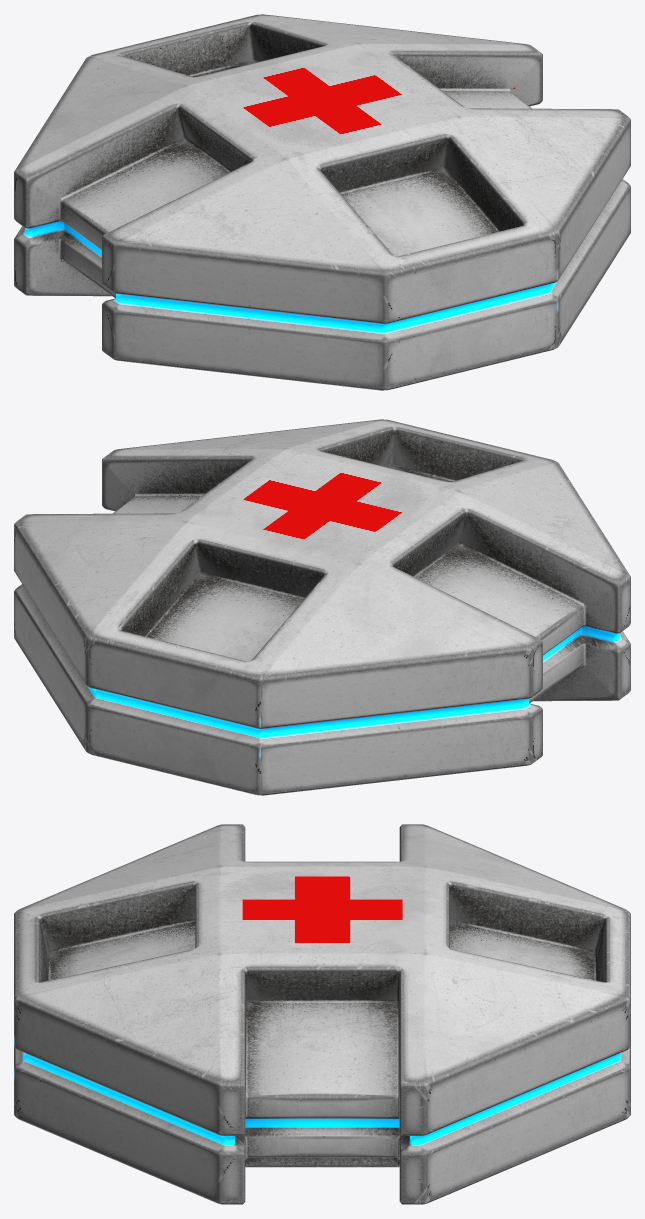
Rendered from health_pack.glb.
3 renders of one model, top to bottom at view 1: azimuth 30°, elevation 25°; view 2: azimuth 150°, elevation 25°; view 3: azimuth 270°, elevation 25°, orthographic. The views are drawn at different scales.
Visible parts, largest first — view 1: Object_2; view 2: Object_2; view 3: Object_2.
Boxes of the visible parts, <box> form: Object_2: <box>14,14,630,390</box>; Object_2: <box>14,419,630,795</box>; Object_2: <box>14,824,630,1204</box>.
Bounding box in the file's own units: 600 × 224 × 600.
Materials: 1 (1 with a texture image).
